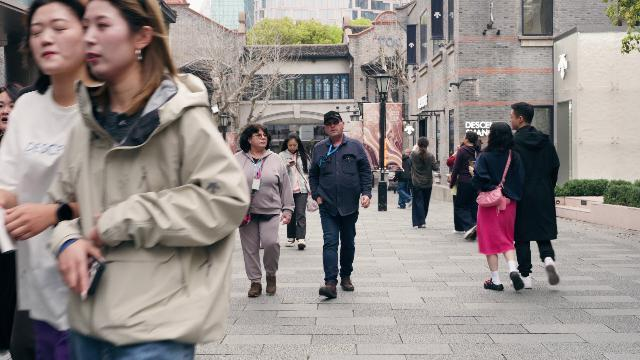person: (42, 0, 252, 360), (0, 0, 102, 360), (308, 111, 373, 300), (233, 123, 295, 298), (468, 122, 526, 292), (510, 101, 561, 289), (277, 131, 312, 250), (446, 131, 483, 240), (409, 136, 441, 229), (0, 84, 26, 146)
